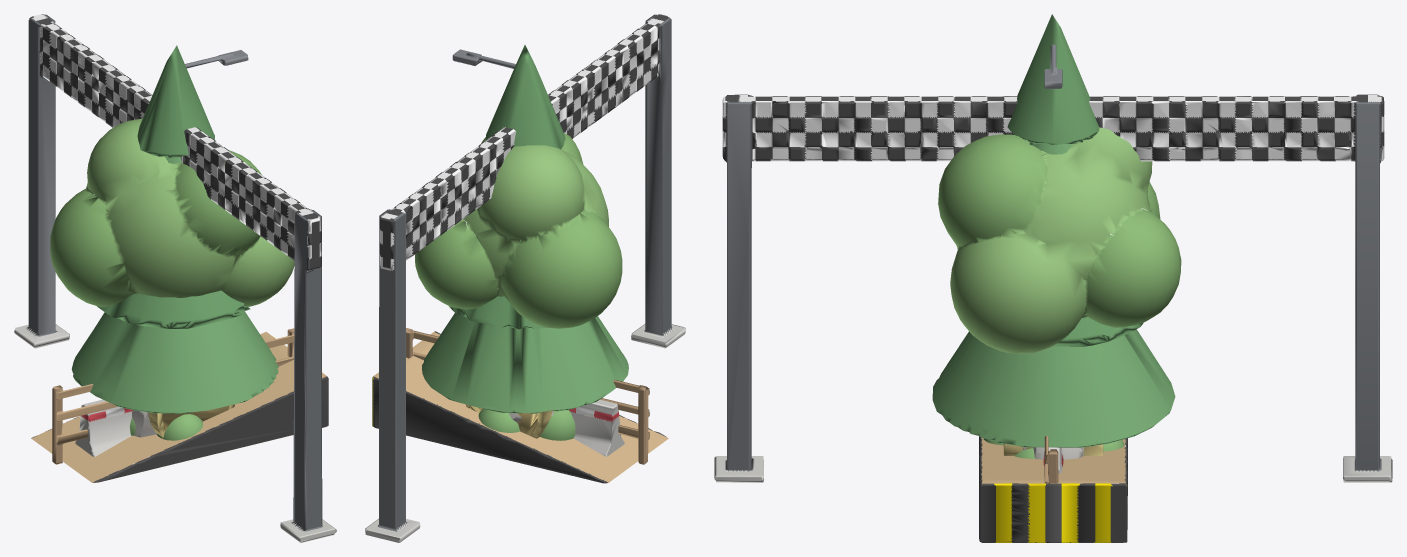
File: props.glb
3 renders of one model, left to right at view 1: azimuth 30°, elevation 25°; view 2: azimuth 150°, elevation 25°; view 3: azimuth 270°, elevation 25°, orthographic. The views are drawn at different scales.
Parts seen in each view (by area): view 1: start_finish_gantry, oak_tree, pine_tree, jump_ramp, fence, jersey_barrier, bush, hay_bale, street_lamp, boulder; view 2: start_finish_gantry, oak_tree, pine_tree, jump_ramp, jersey_barrier, fence, bush, hay_bale, street_lamp; view 3: start_finish_gantry, oak_tree, pine_tree, jump_ramp.
Part boxes in pixels (box(x1,y1,x2,y2)): start_finish_gantry: box(14, 14, 336, 542); oak_tree: box(50, 119, 294, 307); pine_tree: box(71, 45, 278, 413); jump_ramp: box(31, 331, 328, 482); fence: box(52, 328, 294, 464); jersey_barrier: box(75, 399, 266, 456); bush: box(129, 414, 203, 440); hay_bale: box(147, 404, 234, 437); street_lamp: box(185, 50, 248, 68); boulder: box(132, 410, 156, 437); start_finish_gantry: box(365, 14, 685, 542); oak_tree: box(415, 133, 622, 328); pine_tree: box(422, 45, 628, 413); jump_ramp: box(372, 331, 668, 483); jersey_barrier: box(569, 399, 624, 456); fence: box(406, 328, 649, 464); bush: box(478, 409, 575, 440); hay_bale: box(465, 404, 554, 438); street_lamp: box(452, 49, 515, 68); start_finish_gantry: box(714, 94, 1392, 482); oak_tree: box(938, 106, 1181, 353); pine_tree: box(932, 14, 1175, 447); jump_ramp: box(979, 436, 1127, 542).
Size of the model in its own units: 40.22 by 61.38 by 82.
